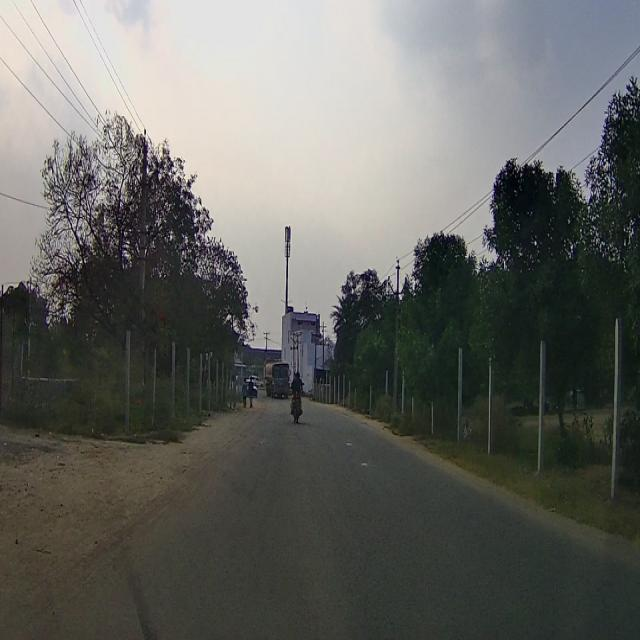barrier ahead at: (120, 324, 140, 449), (147, 339, 158, 425)
